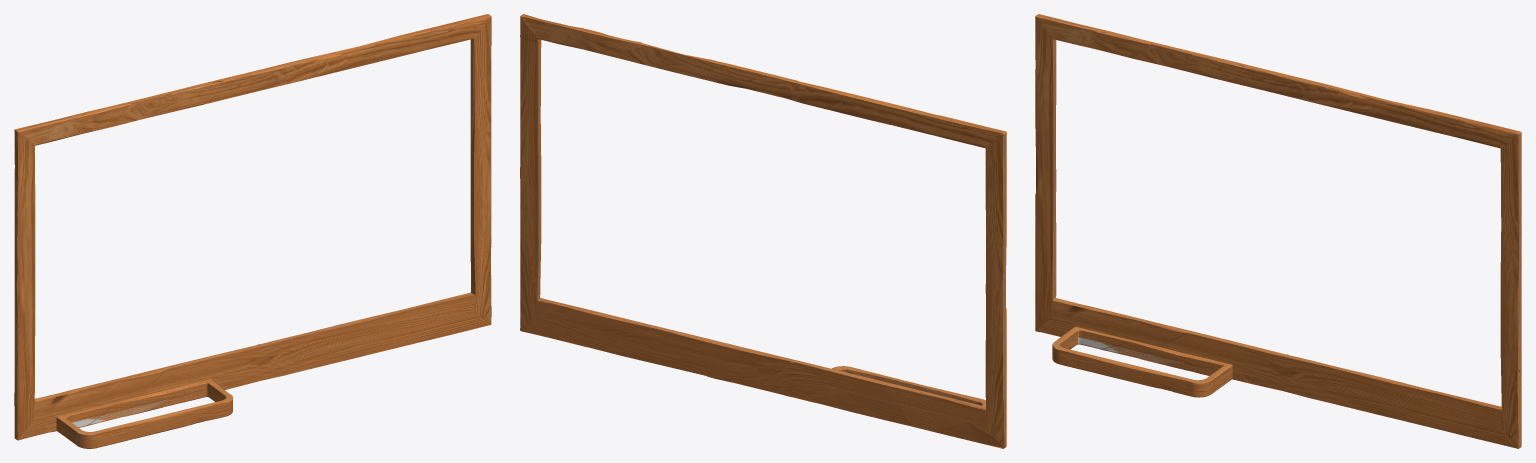
Rendered from Chalkboard.glb.
3 renders of one model, left to right at view 1: azimuth 30°, elevation 25°; view 2: azimuth 150°, elevation 25°; view 3: azimuth 330°, elevation 25°, orthographic. The views are drawn at different scales.
Bounding box in the file's own units: 1.9 × 1.19 × 0.2151.
Materials: 1 (1 with a texture image).
